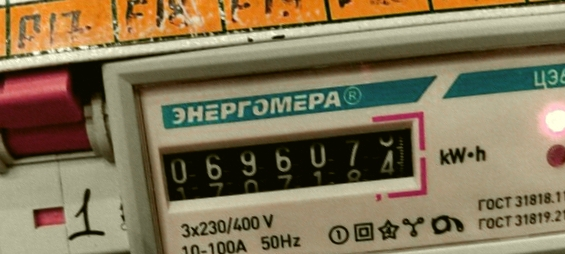0: (165, 153, 188, 185), (305, 136, 327, 168)
4: (374, 146, 395, 176)
6: (199, 148, 224, 180), (271, 142, 292, 172)
7: (340, 134, 360, 166)
9: (236, 146, 257, 177)
screen: (139, 103, 431, 220)
